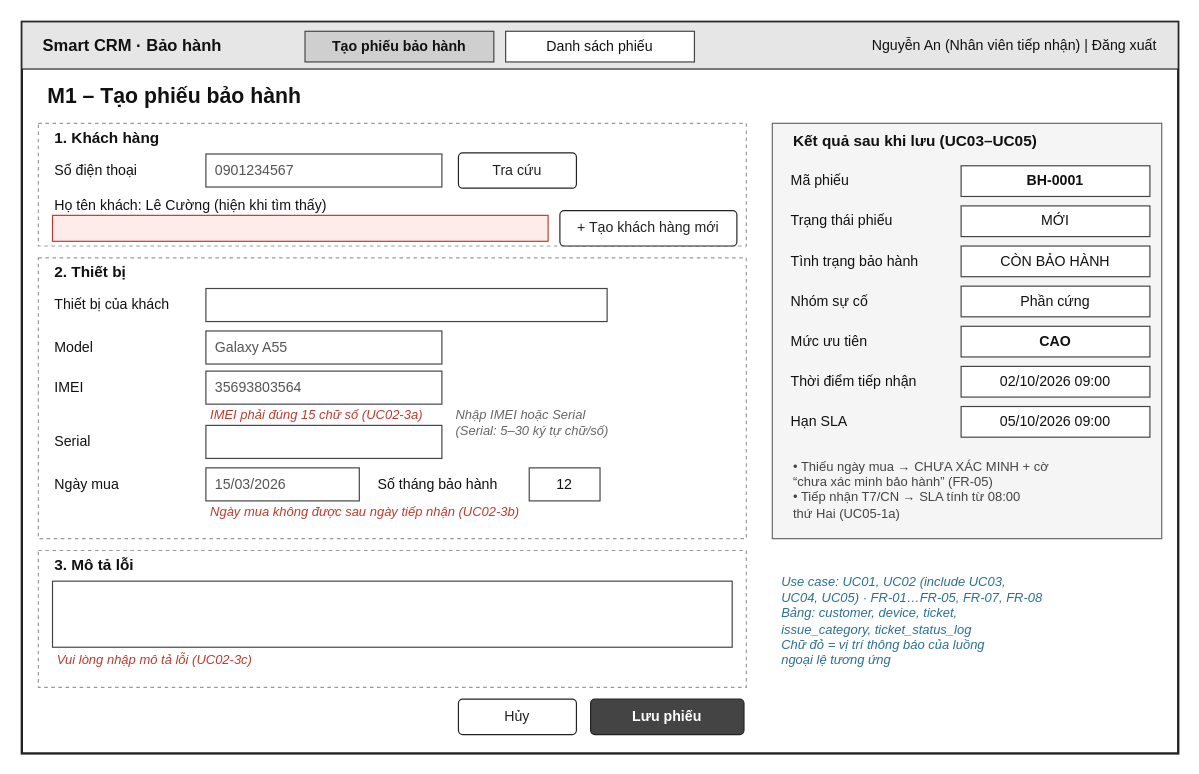
Image size: 1199x774. Some labels were removed from this diagram. Each missing label, with the centre of its shape:
Galaxy A55 – IMEI 356938035643809 ▼: the point at 406,304
Màn hình không lên nguồn sau khi sạc…: the point at 391,613
⚠ Không tìm thấy khách hàng với SĐT này (UC02-1a): the point at 299,227
